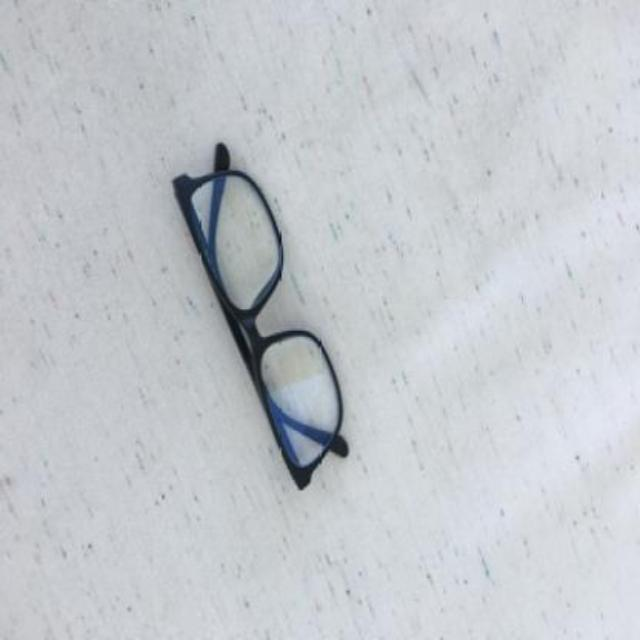glasses: (169, 142, 349, 488)
